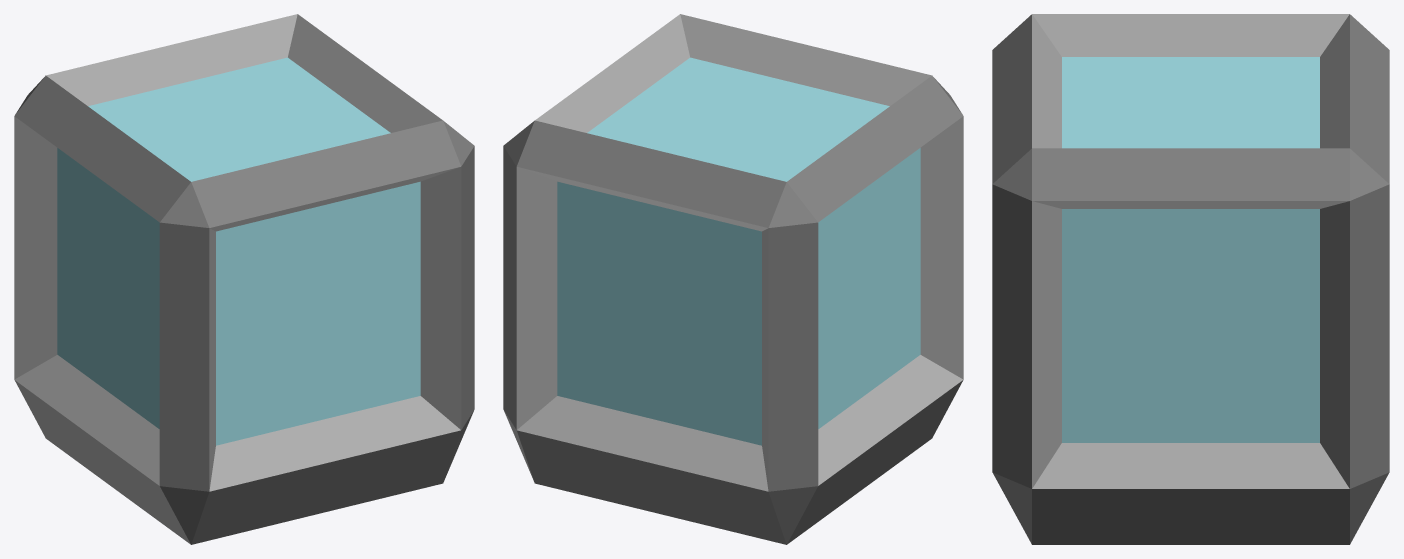
Rendered from StorageCrate.fbx.
3 renders of one model, left to right at view 1: azimuth 30°, elevation 25°; view 2: azimuth 150°, elevation 25°; view 3: azimuth 270°, elevation 25°, orthographic. The views are drawn at different scales.
Parts seen in each view (by area): view 1: pCube1; view 2: pCube1; view 3: pCube1.
Boxes of the visible parts, x1,y1,x2,y2 form: pCube1: (14, 14, 474, 544); pCube1: (503, 14, 963, 544); pCube1: (992, 14, 1389, 544).
Bounding box in the file's own units: 9.12 × 10.05 × 9.12.
